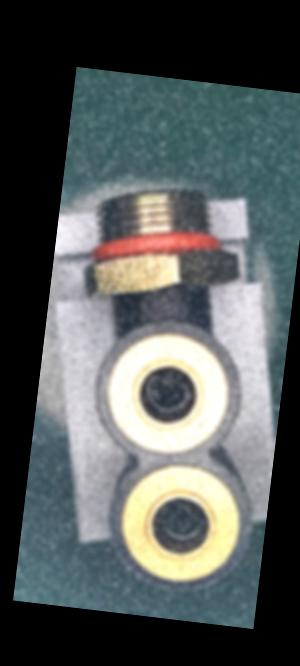joint line: (153, 284, 167, 318)
off-centered: (152, 494, 211, 547), (140, 366, 197, 418)
